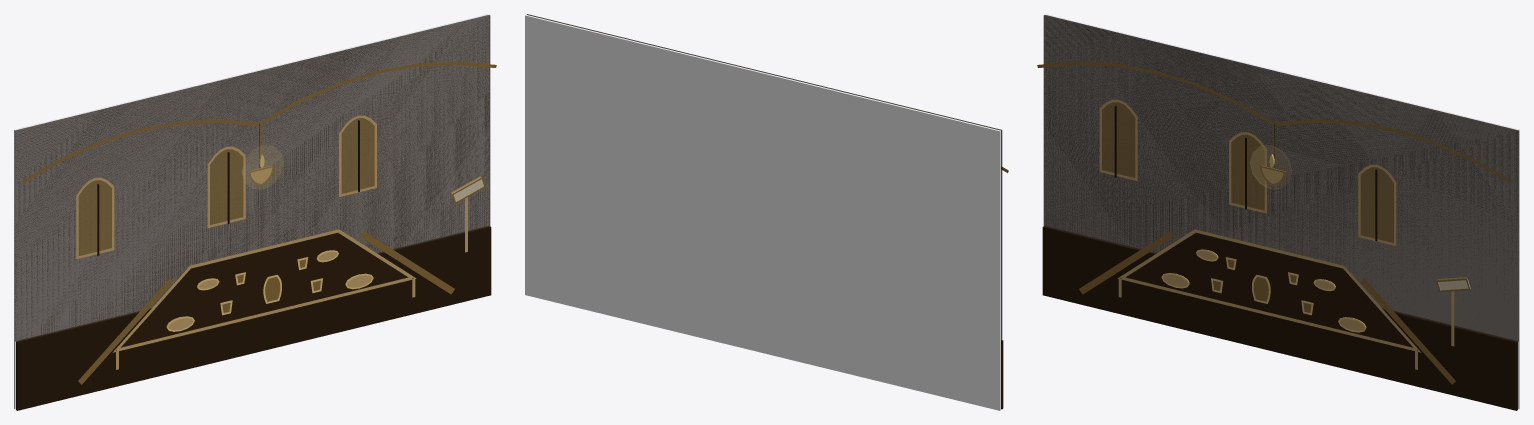
The model's file is loc-trapeznaya.glb.
3 views of the same model, side by side, from view 1: azimuth 30°, elevation 25°; view 2: azimuth 150°, elevation 25°; view 3: azimuth 330°, elevation 25° (orthographic).
Parts seen in each view (by area): view 1: loc-trapeznaya; view 2: loc-trapeznaya; view 3: loc-trapeznaya.
Boxes of the visible parts, <box> form: loc-trapeznaya: <box>14,14,496,410</box>; loc-trapeznaya: <box>525,14,1008,410</box>; loc-trapeznaya: <box>1037,14,1519,410</box>.
Bounding box in the file's own units: 5.34 × 3 × 0.461.
